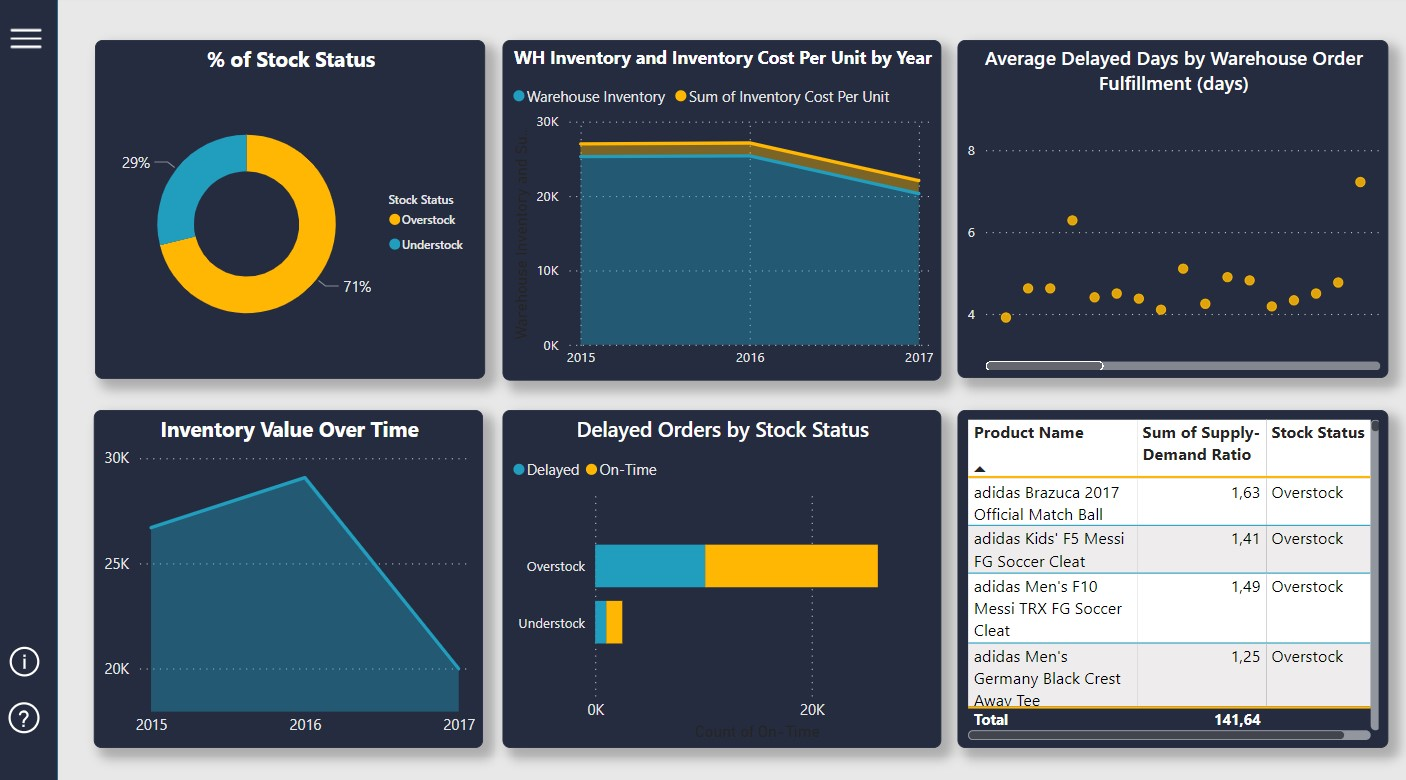

Layout of this report page (visuals, bound fields, positions):
{"tool":"powerbi","page":{"name":"Inventory Overview","canvas":[1280,720],"ordinal":1},"visuals":[{"type":"shape","box":[0,0,57,720.1],"z":0},{"type":"actionButton","box":[8.4,19.5,44.5,40.3],"z":0,"group":"g1"},{"type":"tableEx","fields":{"Values":["fulfillment.Product Name","Sum(fulfillment.Supply-Demand Ratio)","fulfillment.Stock Status"]},"box":[869.8,375.3,389.6,306],"z":0,"group":"g2"},{"type":"group","id":"g1","title":"Menu Bar 2","box":[7,19.5,47.3,653.3],"z":1000},{"type":"donutChart","title":"% of Stock Status ","fields":{"Y":["CountNonNull(fulfillment.Stock Status)"],"Category":["fulfillment.Stock Status"]},"box":[89.7,41,352.5,306.4],"z":1000,"group":"g2"},{"type":"actionButton","title":"Info","box":[8.4,583.9,37.5,38.9],"z":1000,"group":"g1"},{"type":"group","id":"g2","title":"Viz","box":[88.9,40.9,1170.4,640.4],"z":2000},{"type":"stackedAreaChart","title":"Inventory Value Over Time","fields":{"Y":["Sum(inventory.Inventory Value)"],"Category":["inventory.Year Inv"]},"box":[88.9,375.3,352.2,306],"z":2000,"group":"g2"},{"type":"actionButton","title":"Qs","box":[7,633.9,47.3,38.9],"z":2000,"group":"g1"},{"type":"stackedAreaChart","title":"WH Inventory and Inventory Cost Per Unit by Year","fields":{"Y":["Sum(inventory. Warehouse Inventory )","Sum(inventory.Inventory Cost Per Unit)"],"Category":["inventory.Year Inv"]},"box":[458.9,40.9,396.7,307.7],"z":3000,"group":"g2"},{"type":"scatterChart","title":"Average Delayed Days by Warehouse Order Fulfillment (days)","fields":{"Y":["orders_and_shipments.AvgDelayedDays"],"X":["fulfillment.Warehouse Order Fulfillment (days)"]},"box":[869.8,40.9,389.6,306],"z":4000,"group":"g2"},{"type":"barChart","title":"Delayed Orders by Stock Status","fields":{"Category":["fulfillment.Stock Status"],"Y":["CountNonNull(orders_and_shipments.On-Time)"],"Series":["orders_and_shipments.On-Time"]},"box":[458.9,375.3,396.7,306],"z":5000,"group":"g2"}]}

Visuals, with their boxes in screenshot pixels (x1, y1, x2, y2):
shape: 0,0,56,779
actionButton: 2,14,51,59
tableEx - fulfillment.Product Name x Sum(fulfillment.Supply-Demand Ratio): 956,408,1387,747
"Menu Bar 2" group: 0,14,53,738
"% of Stock Status " donutChart: 92,38,482,377
"Info" actionButton: 2,639,44,682
"Viz" group: 91,38,1387,747
"Inventory Value Over Time" stackedAreaChart: 91,408,481,747
"Qs" actionButton: 0,695,53,738
"WH Inventory and Inventory Cost Per Unit by Year" stackedAreaChart: 501,38,940,379
"Average Delayed Days by Warehouse Order Fulfillment (days)" scatterChart: 956,38,1387,377
"Delayed Orders by Stock Status" barChart: 501,408,940,747
